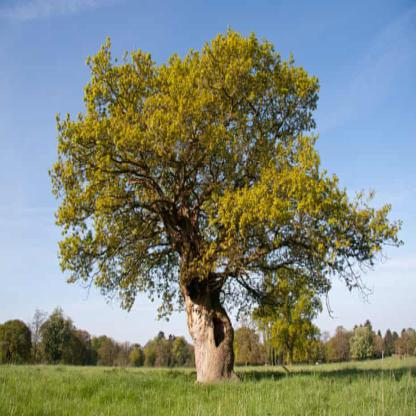Tree: (49, 20, 404, 381), (254, 266, 322, 367), (38, 305, 73, 366), (58, 315, 90, 369), (0, 316, 33, 364), (294, 327, 326, 369), (234, 326, 265, 368), (350, 318, 375, 362), (96, 325, 120, 367), (331, 324, 351, 363), (84, 332, 106, 365), (360, 319, 376, 359), (171, 335, 191, 367), (154, 333, 171, 369), (383, 328, 398, 359), (396, 328, 412, 356), (322, 332, 336, 364), (130, 340, 146, 368), (375, 328, 386, 358), (143, 339, 154, 368), (391, 330, 403, 356), (406, 326, 416, 356)
